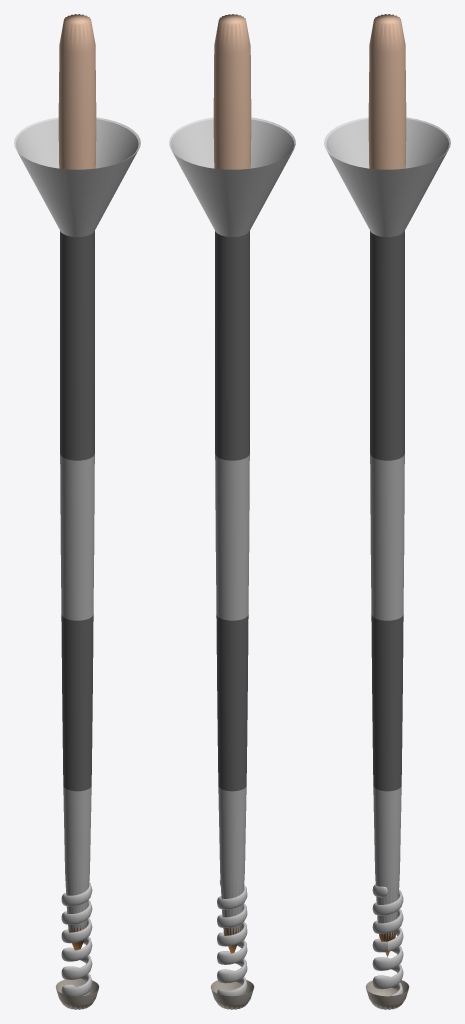
Rendered from Medieval Pogo stick (No Arms and Legs).fbx.
The picture shows the model from 3 angles, left to right: view 1: azimuth 90°, elevation 25°; view 2: azimuth 150°, elevation 25°; view 3: azimuth 270°, elevation 25°; orthographic projection.
Visible parts, largest first — view 1: pasted__pCylinder5; view 2: pasted__pCylinder5; view 3: pasted__pCylinder5.
Boxes of the visible parts, x1,y1,x2,y2 form: pasted__pCylinder5: [14, 14, 140, 1009]; pasted__pCylinder5: [169, 14, 295, 1009]; pasted__pCylinder5: [324, 14, 450, 1009].
Size of the model in its own units: 8.97 by 76.93 by 8.97.
